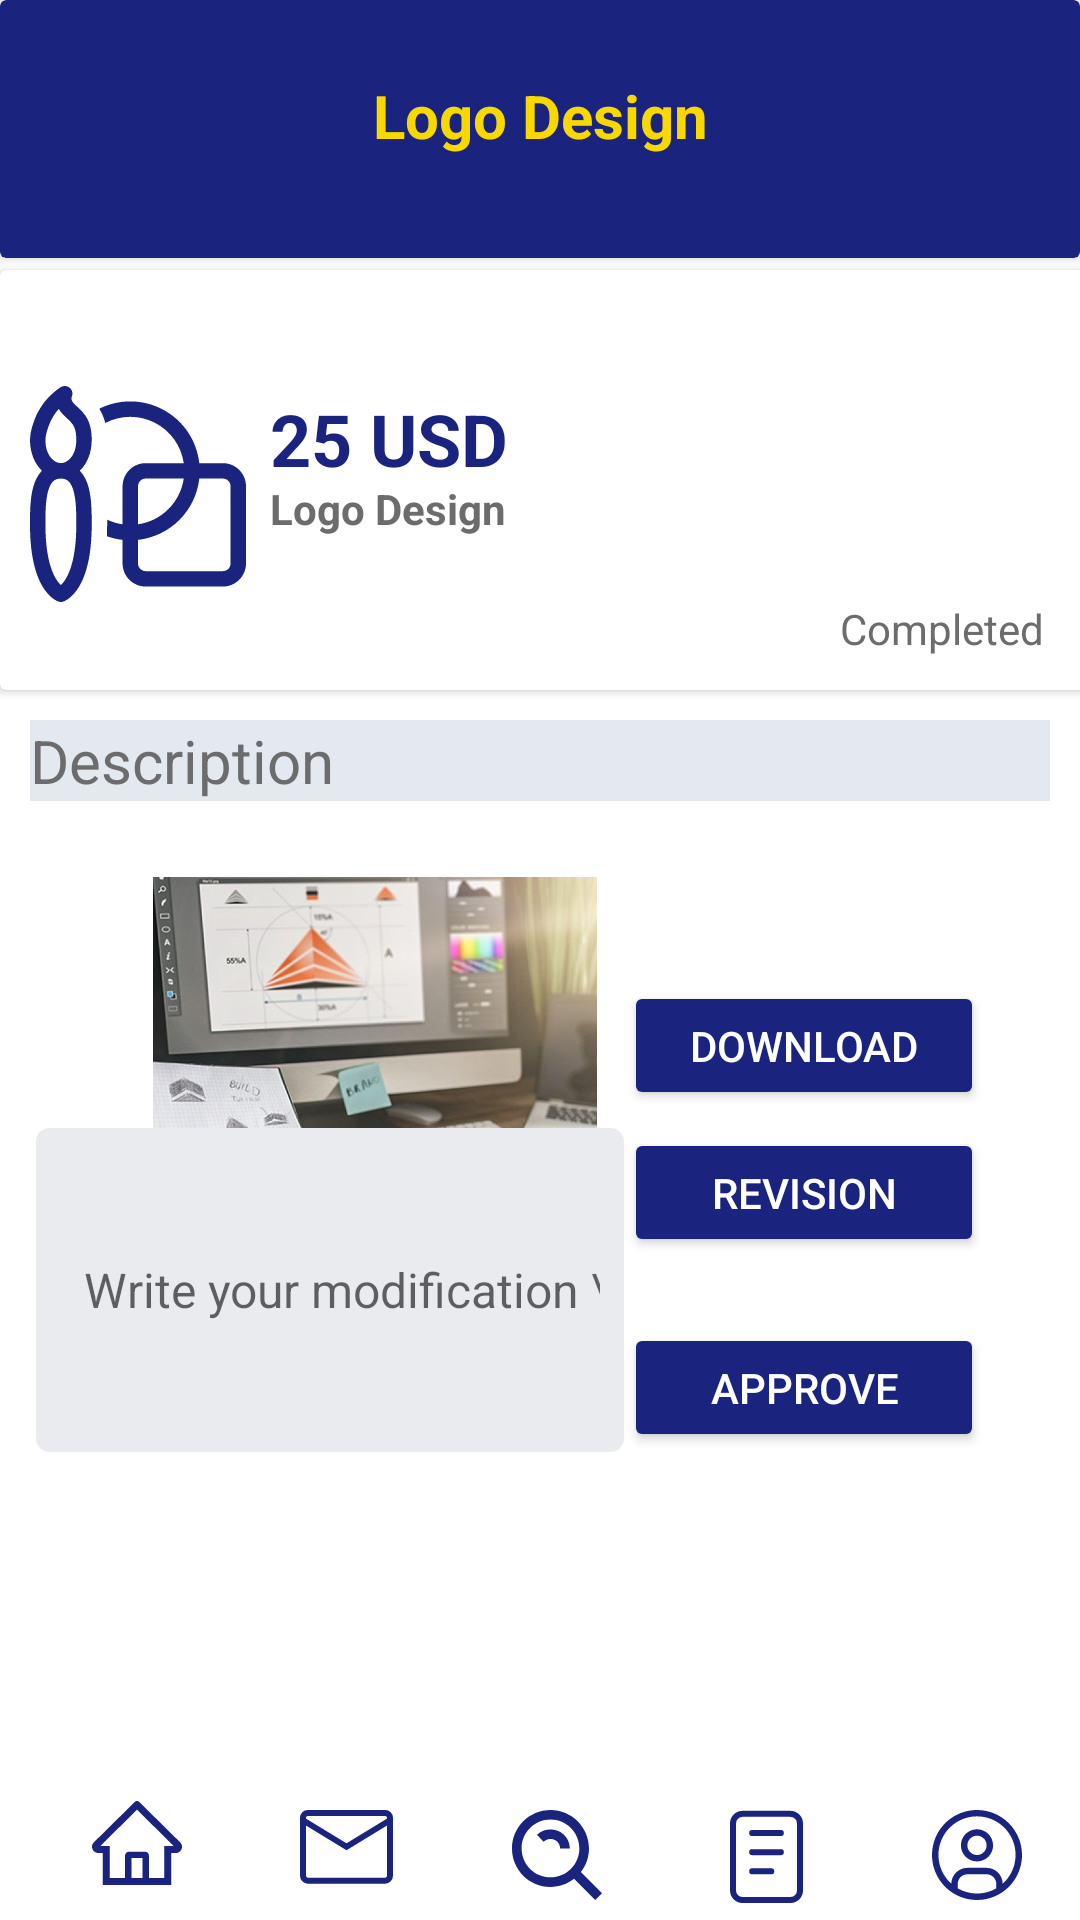

Locate icon controls on the screen. Image size 1080 × 1920, boxes as BBox(x1, y1, x2, y2).
graphic design: BBox(30, 386, 246, 602)
home: BBox(92, 1801, 182, 1885)
message: BBox(300, 1810, 393, 1884)
order: BBox(730, 1810, 803, 1903)
profile: BBox(932, 1810, 1022, 1900)
searchh: BBox(512, 1810, 602, 1900)
